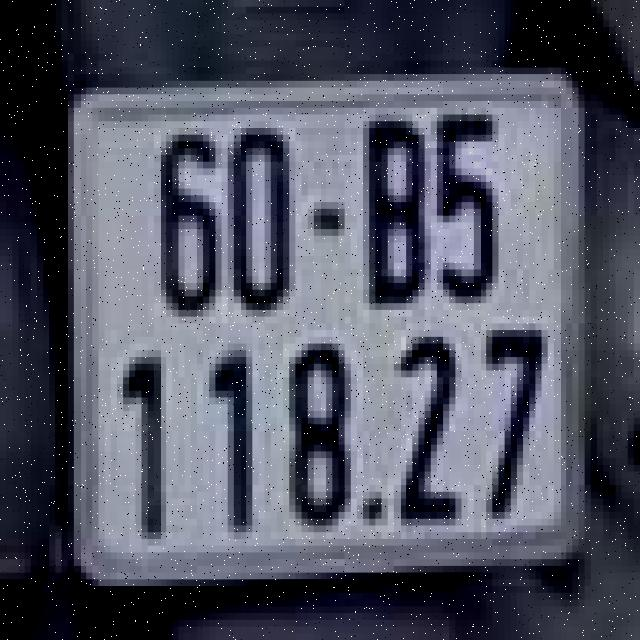0: (218, 108, 311, 323)
1: (108, 340, 188, 549), (194, 323, 268, 546)
2: (397, 323, 471, 539)
5: (434, 88, 508, 303)
6: (148, 121, 228, 317)
7: (471, 300, 551, 515)
8: (274, 310, 360, 532)
B: (354, 114, 428, 310)
